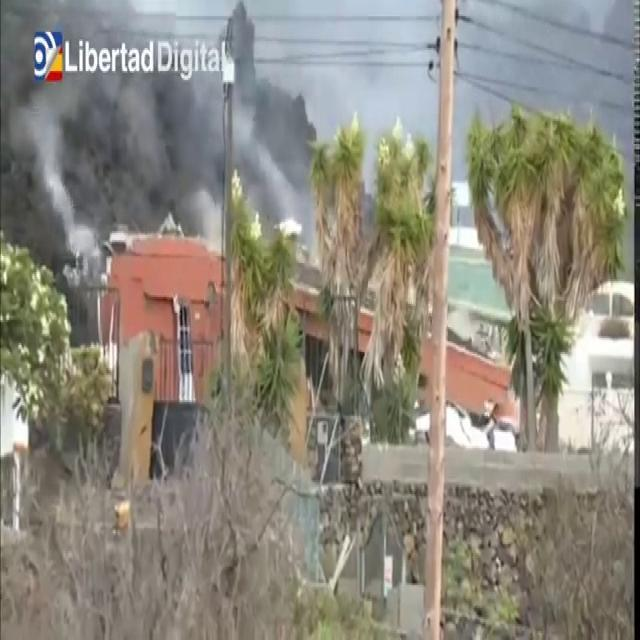Smoke: (0, 0, 311, 265)
